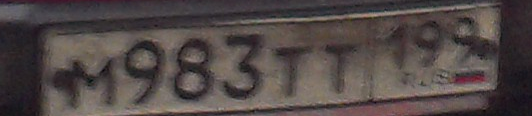character: (220, 31, 268, 102), (123, 37, 168, 109), (170, 37, 215, 104), (270, 42, 317, 100), (70, 56, 118, 112), (323, 41, 362, 97), (450, 14, 481, 72), (383, 19, 412, 78), (413, 18, 443, 70)
